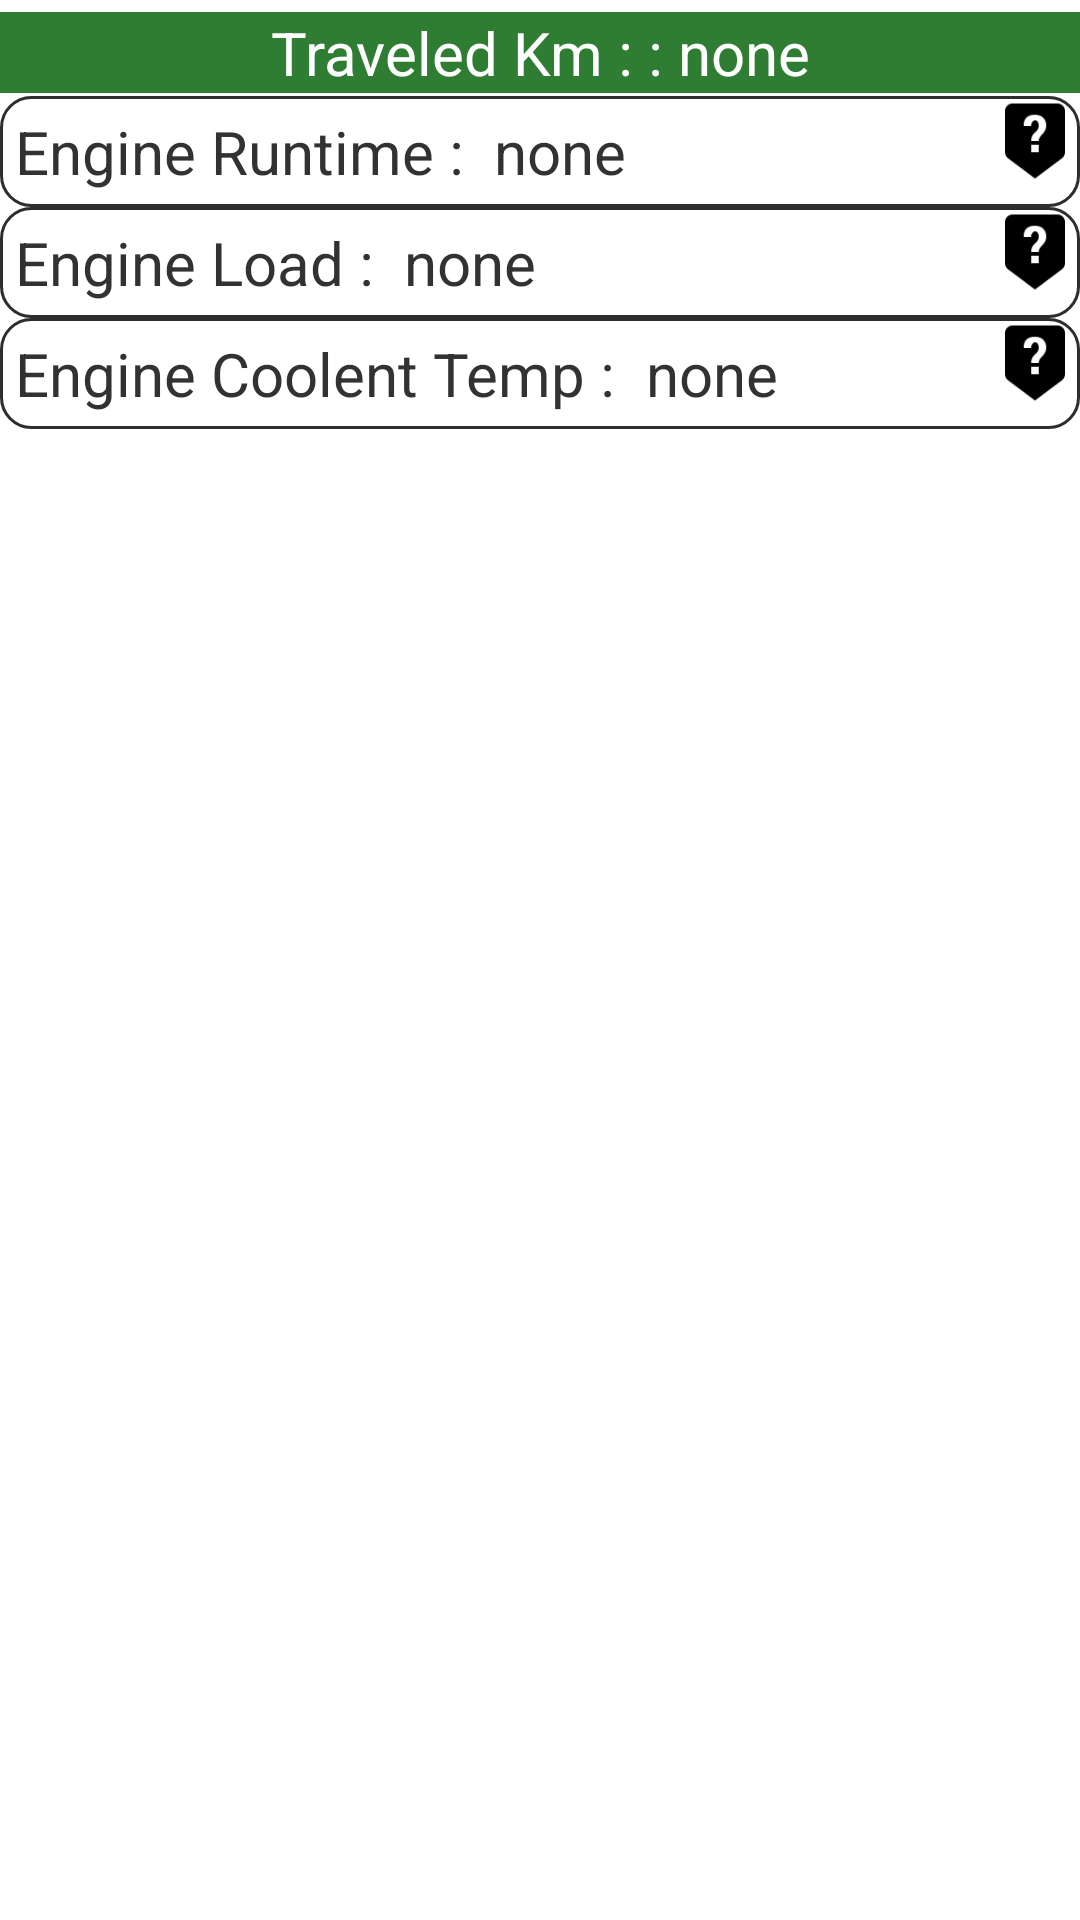

Named icons in this screenshot (1080 × 1920) and their centers, (x=x, y=y):
questionmark: (x=1035, y=141), (x=1035, y=252), (x=1035, y=363)
